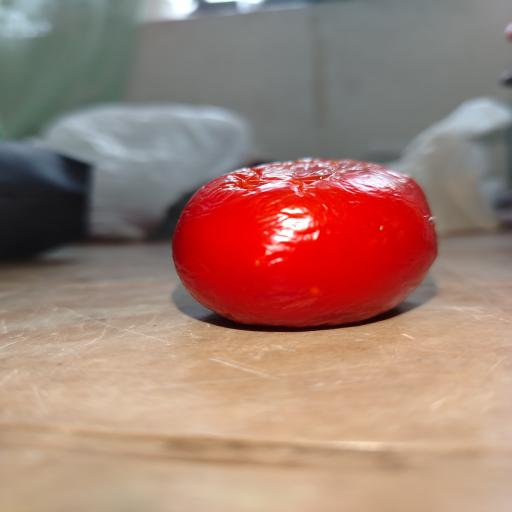spoiled: (173, 159, 436, 327)
